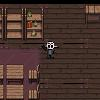Jason: (40, 40, 58, 59)
Obstacle: (24, 8, 44, 41), (5, 8, 24, 41), (5, 64, 24, 84), (24, 64, 41, 84), (5, 84, 24, 100), (24, 84, 41, 100), (85, 5, 100, 23)
